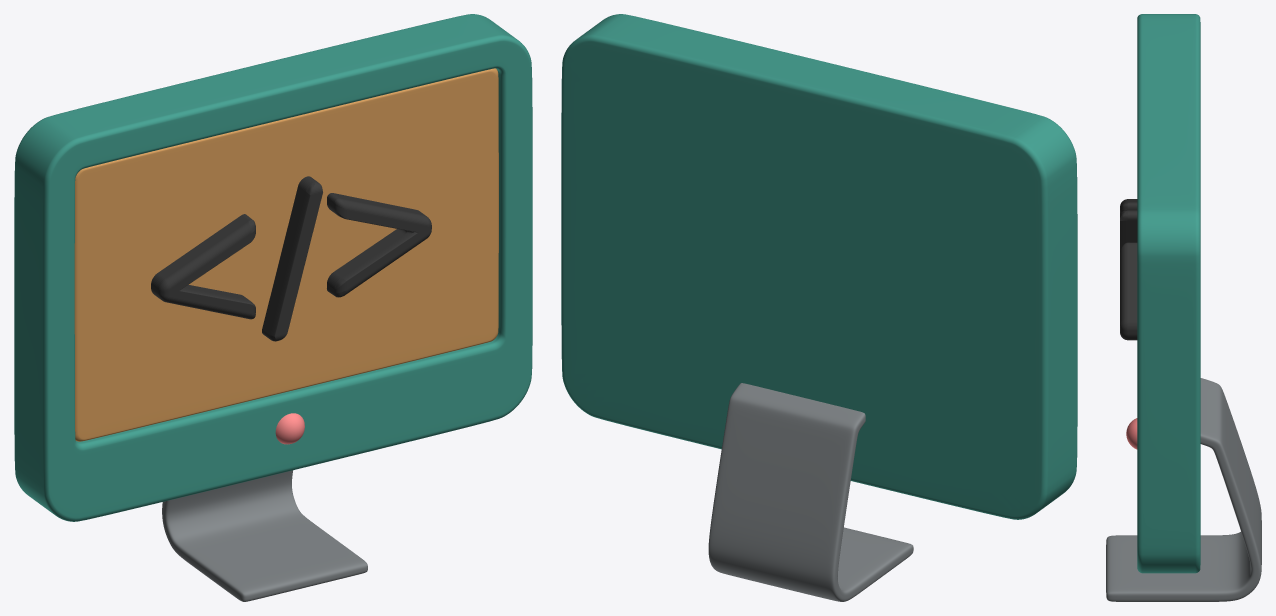
Rendered from computer.fbx.
3 views of the same model, side by side, from view 1: azimuth 30°, elevation 25°; view 2: azimuth 150°, elevation 25°; view 3: azimuth 270°, elevation 25° (orthographic). The views are drawn at different scales.
Visible parts, largest first — view 1: Monitor, Text; view 2: Monitor; view 3: Monitor, Text.
Part boxes in pixels (box(x1,y1,x2,y2)): Monitor: box(14, 14, 532, 601); Text: box(151, 176, 431, 341); Monitor: box(561, 14, 1077, 601); Monitor: box(1106, 14, 1261, 601); Text: box(1120, 199, 1137, 340).
Size of the model in its own units: 188 by 180 by 54.95.
